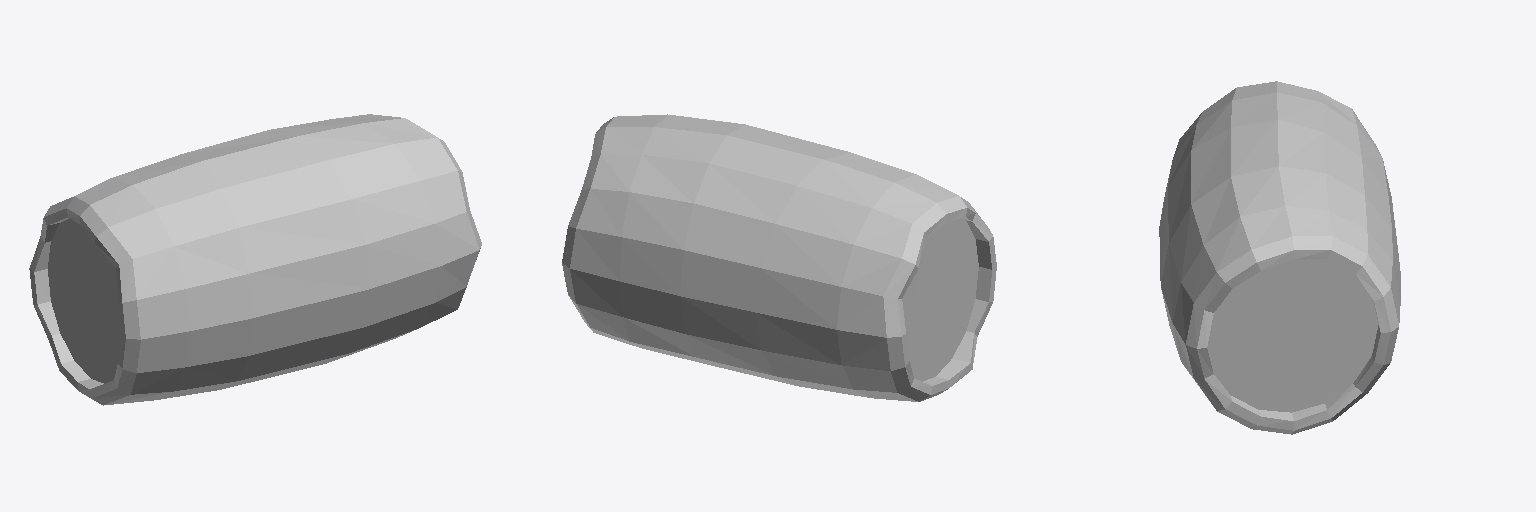
File: Log_1.obj
3 renders of one model, left to right at view 1: azimuth 30°, elevation 25°; view 2: azimuth 150°, elevation 25°; view 3: azimuth 270°, elevation 25°, orthographic.
Visible parts, largest first — view 1: Cylinder.074_Cylinder.082; view 2: Cylinder.074_Cylinder.082; view 3: Cylinder.074_Cylinder.082.
Part boxes in pixels (x1,y1,x2,y2): Cylinder.074_Cylinder.082: (29,114,481,405); Cylinder.074_Cylinder.082: (562,114,996,401); Cylinder.074_Cylinder.082: (1159,81,1400,434).
Bounding box in the file's own units: 0.8688 × 0.4955 × 0.4917.